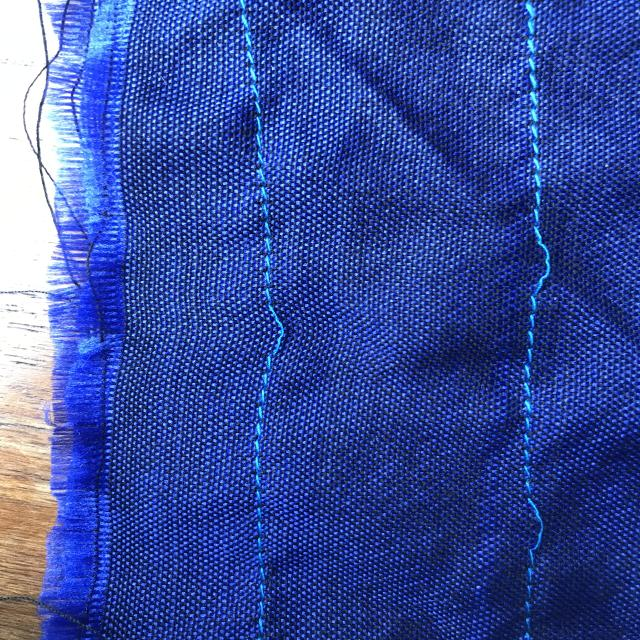good: (523, 61, 563, 160)
skip: (492, 478, 589, 575), (232, 282, 307, 371), (519, 214, 569, 312)
